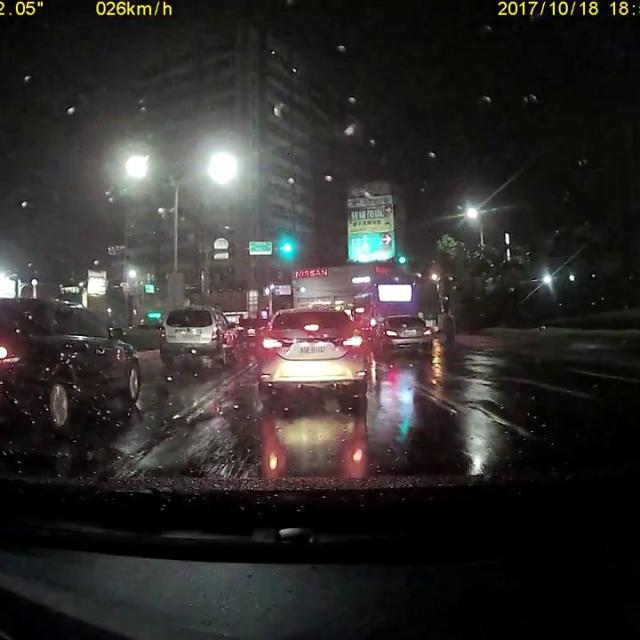Car: (0, 296, 138, 425), (252, 304, 369, 397), (158, 306, 232, 370), (370, 314, 433, 360)
